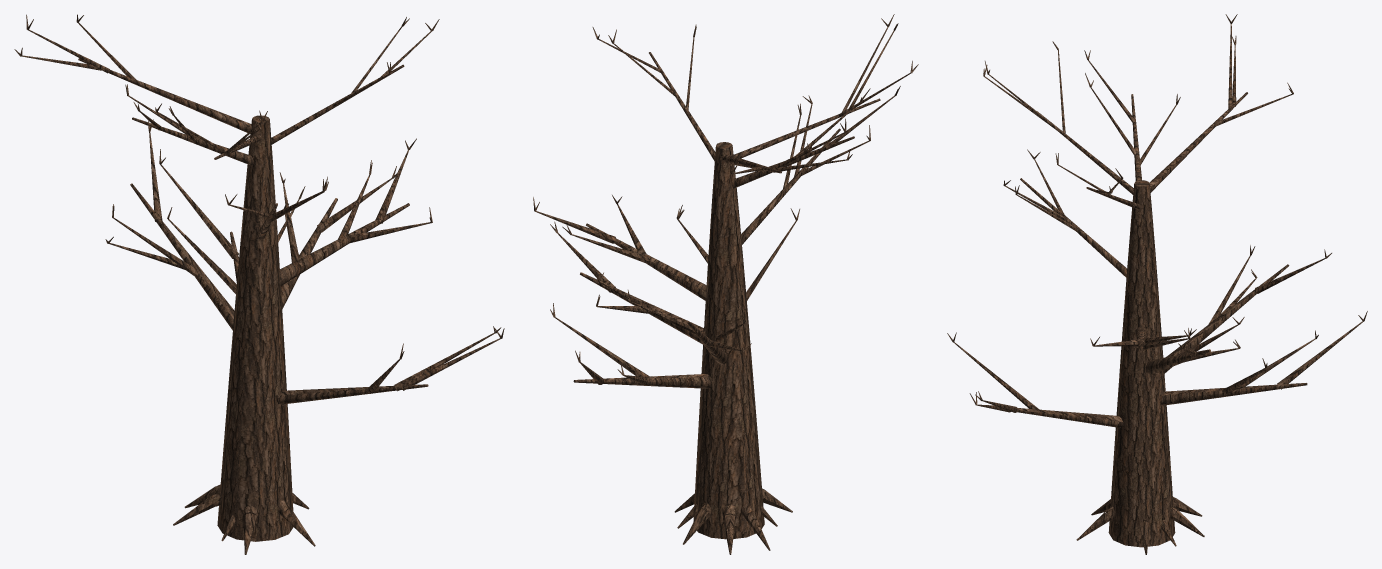
Rendered from giant-dead-oak-v01.glb.
3 renders of one model, left to right at view 1: azimuth 30°, elevation 25°; view 2: azimuth 150°, elevation 25°; view 3: azimuth 270°, elevation 25°, orthographic. The views are drawn at different scales.
Visible parts, largest first — view 1: dead-tree-oak; view 2: dead-tree-oak; view 3: dead-tree-oak.
Part boxes in pixels (x1,y1,x2,y2): dead-tree-oak: (14, 14, 504, 554); dead-tree-oak: (533, 14, 918, 554); dead-tree-oak: (947, 14, 1367, 554).
Bounding box in the file's own units: 8.75 × 11.54 × 9.87.
Materials: 1 (1 with a texture image).
